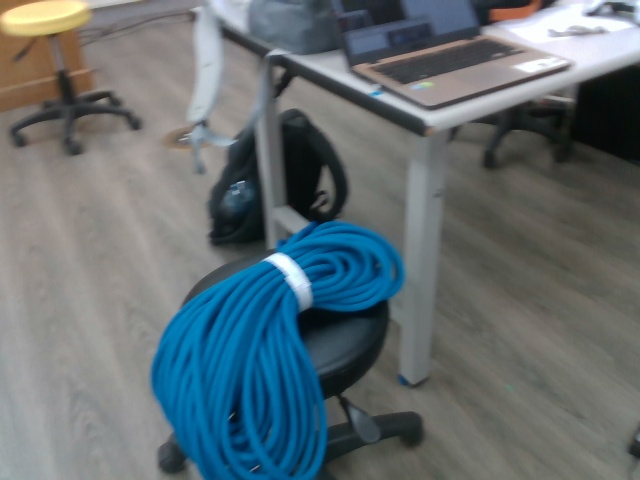rope: (146, 217, 407, 480)
